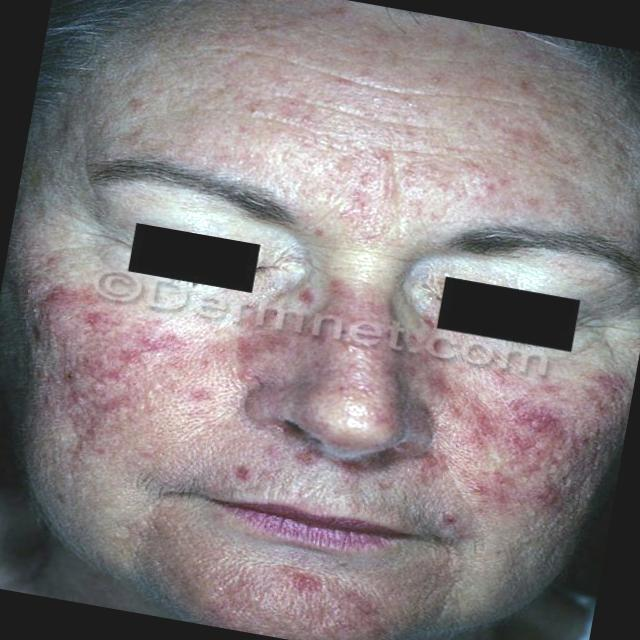skinredness: (4, 7, 640, 575)
